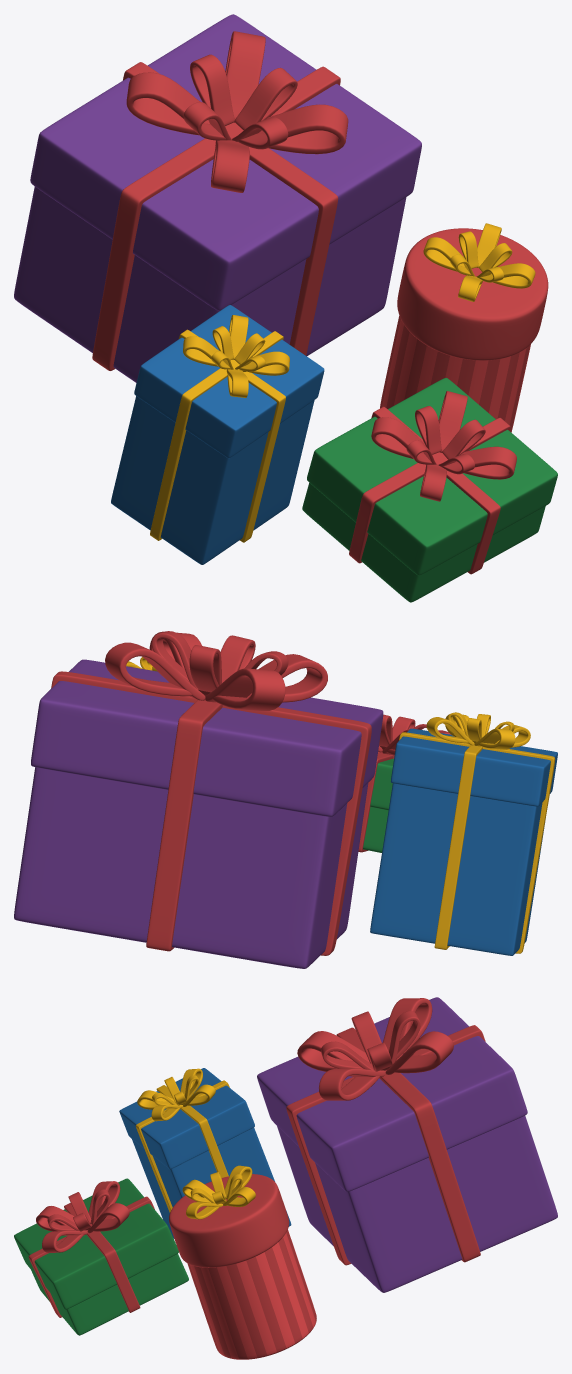
The model's file is Christmas Gift 2.fbx.
The picture shows the model from 3 angles, top to bottom: view 1: azimuth 30°, elevation 25°; view 2: azimuth 150°, elevation 25°; view 3: azimuth 270°, elevation 25°; orthographic projection. The views are drawn at different scales.
Visible parts, largest first — view 1: Cube.010, Cube.011, Cube.006, Cube.018, Cylinder.018, Cube.017, Cube.016, Cylinder.016, Cube.007, Cube.014, Plane.016, Plane.017 (+19 smaller); view 2: Cube.011, Cube.010, Cube.018, Cube.017, Cube.014, Cube.016, Cube.019, Plane.016, Plane.019, Cube.020, Plane.018, Plane.023 (+9 smaller); view 3: Cube.011, Cube.010, Cylinder.016, Cube.006, Cylinder.018, Cube.017, Cube.016, Cube.018, Cube.007, Cube.014, Plane.019, Plane.017 (+15 smaller).
Part boxes in pixels (bbox=[...]): Cube.010: bbox=[30, 14, 421, 310]; Cube.011: bbox=[14, 186, 406, 382]; Cube.006: bbox=[307, 378, 557, 575]; Cube.018: bbox=[111, 396, 314, 564]; Cylinder.018: bbox=[397, 228, 548, 360]; Cube.017: bbox=[134, 305, 324, 458]; Cube.016: bbox=[92, 66, 340, 370]; Cylinder.016: bbox=[380, 316, 530, 432]; Cube.007: bbox=[302, 483, 545, 602]; Cube.014: bbox=[123, 62, 338, 355]; Plane.016: bbox=[126, 72, 209, 135]; Plane.017: bbox=[259, 104, 348, 154]; Cube.011: bbox=[14, 767, 368, 968]; Cube.010: bbox=[31, 659, 383, 816]; Cube.018: bbox=[370, 783, 545, 955]; Cube.017: bbox=[390, 728, 557, 806]; Cube.014: bbox=[146, 700, 222, 951]; Cube.016: bbox=[51, 671, 371, 955]; Cube.019: bbox=[434, 745, 482, 949]; Plane.016: bbox=[205, 668, 285, 710]; Plane.019: bbox=[105, 642, 205, 700]; Cube.020: bbox=[399, 732, 555, 953]; Plane.018: bbox=[247, 654, 327, 702]; Plane.023: bbox=[189, 645, 221, 696]; Cube.011: bbox=[277, 1115, 557, 1292]; Cube.010: bbox=[257, 997, 527, 1191]; Cylinder.016: bbox=[187, 1229, 316, 1359]; Cube.006: bbox=[14, 1178, 178, 1309]; Cylinder.018: bbox=[169, 1174, 289, 1267]; Cube.017: bbox=[119, 1068, 254, 1169]; Cube.016: bbox=[336, 1027, 480, 1262]; Cube.018: bbox=[132, 1127, 291, 1238]; Cube.007: bbox=[31, 1253, 188, 1335]; Cube.014: bbox=[286, 1025, 485, 1265]; Plane.019: bbox=[385, 1031, 453, 1074]; Plane.017: bbox=[319, 1068, 385, 1100].
Bounding box in the file's own units: 365 × 310 × 531.
